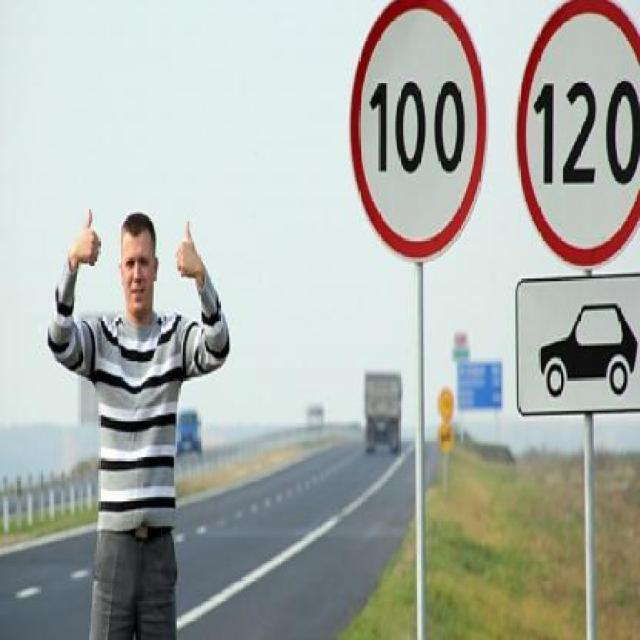forb_speed_over_100: (352, 0, 483, 258)
forb_speed_over_120: (523, 0, 640, 263)
